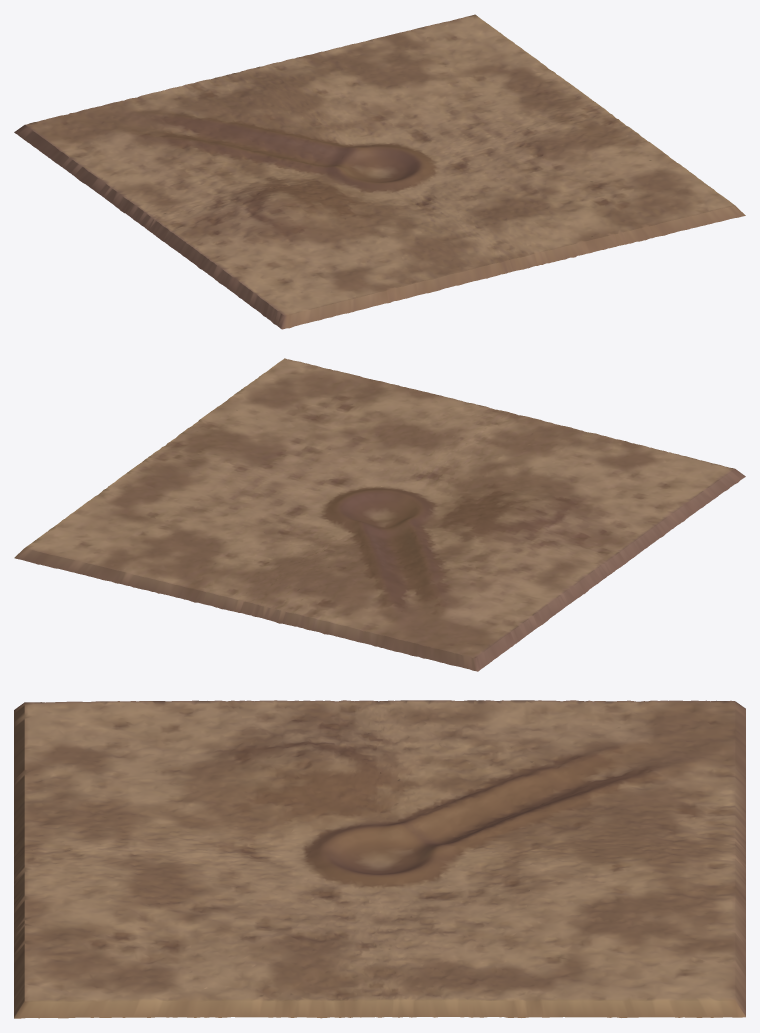
The model's file is terrain.glb.
The picture shows the model from 3 angles, top to bottom: view 1: azimuth 30°, elevation 25°; view 2: azimuth 150°, elevation 25°; view 3: azimuth 270°, elevation 25°; orthographic projection. The views are drawn at different scales.
Visible parts, largest first — view 1: Terrain; view 2: Terrain; view 3: Terrain.
Part boxes in pixels (x1,y1,x2,y2): Terrain: (14,14,745,329); Terrain: (14,358,745,671); Terrain: (14,700,745,1018).
Size of what is drawn, in the model's own units: 165 by 6.31 by 165.
